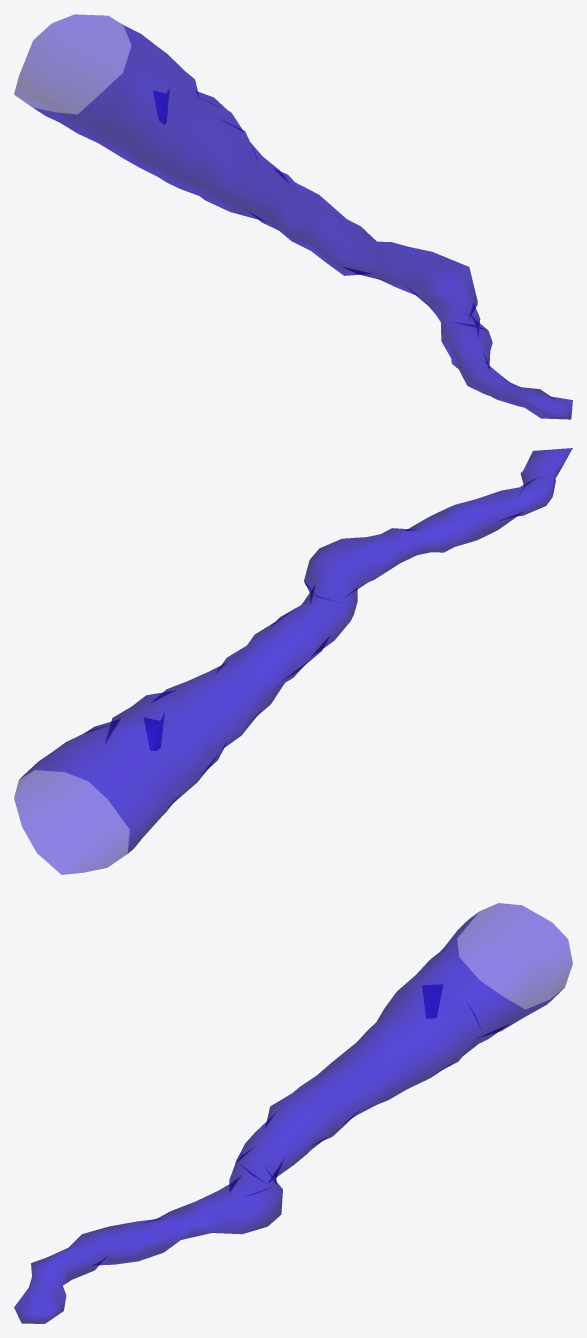
The model's file is kujira_atari.fbx.
The picture shows the model from 3 angles, top to bottom: view 1: azimuth 30°, elevation 25°; view 2: azimuth 150°, elevation 25°; view 3: azimuth 330°, elevation 25°; orthographic projection. The views are drawn at different scales.
Parts seen in each view (by area): view 1: atari; view 2: atari; view 3: atari.
Boxes of the visible parts, <box> form: atari: <box>14,14,572,419</box>; atari: <box>14,448,572,874</box>; atari: <box>14,903,572,1323</box>.
Size of the model in its own units: 498 by 357 by 3158.
